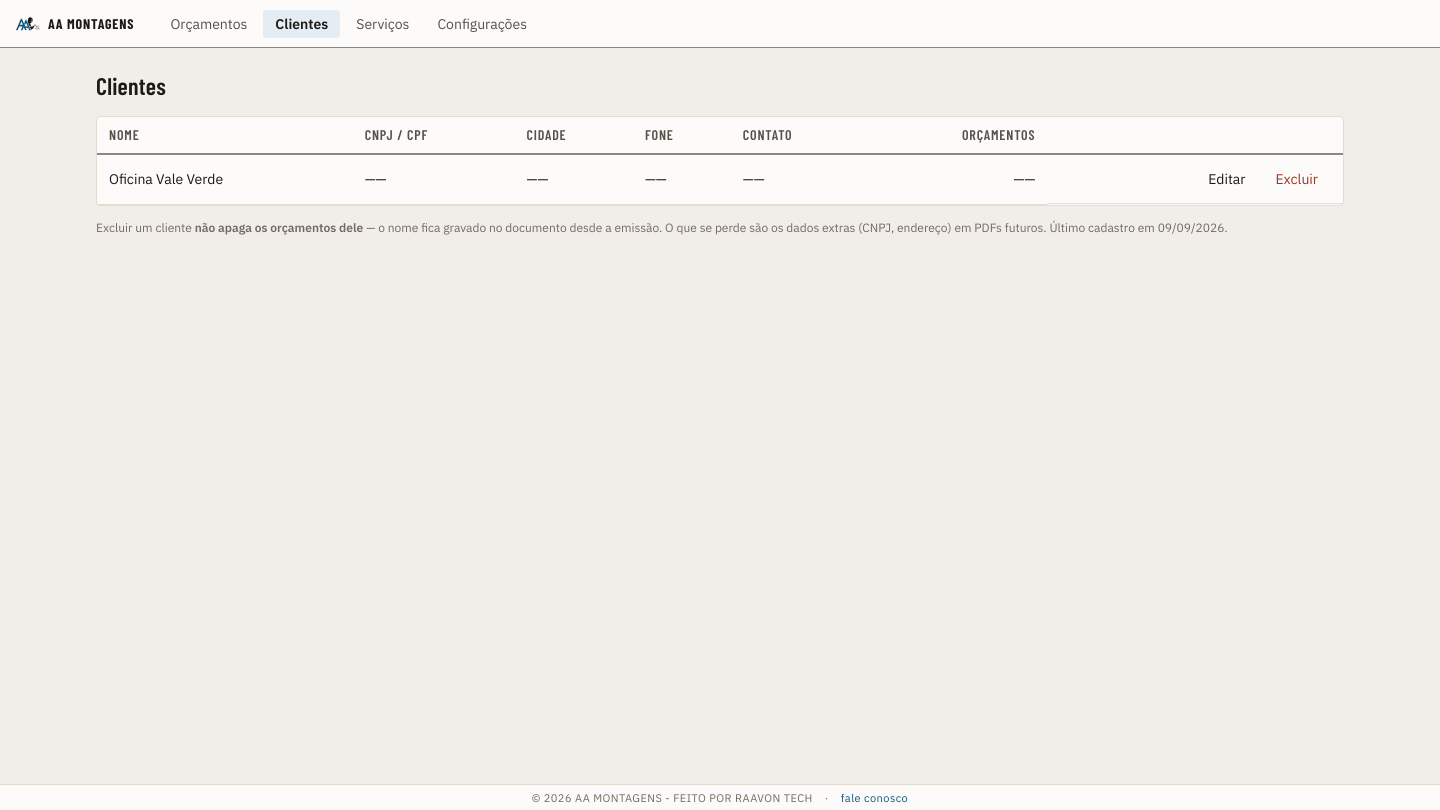
Test: clientes: editar cadastro › abre o formulário e grava a alteração
Expected: the text "Oficina Vale Verde" is shown, [97, 155, 353, 204]
Click the button with aria-label "Editar o cliente". click: (1227, 179)
box: [1195, 163, 1258, 195]
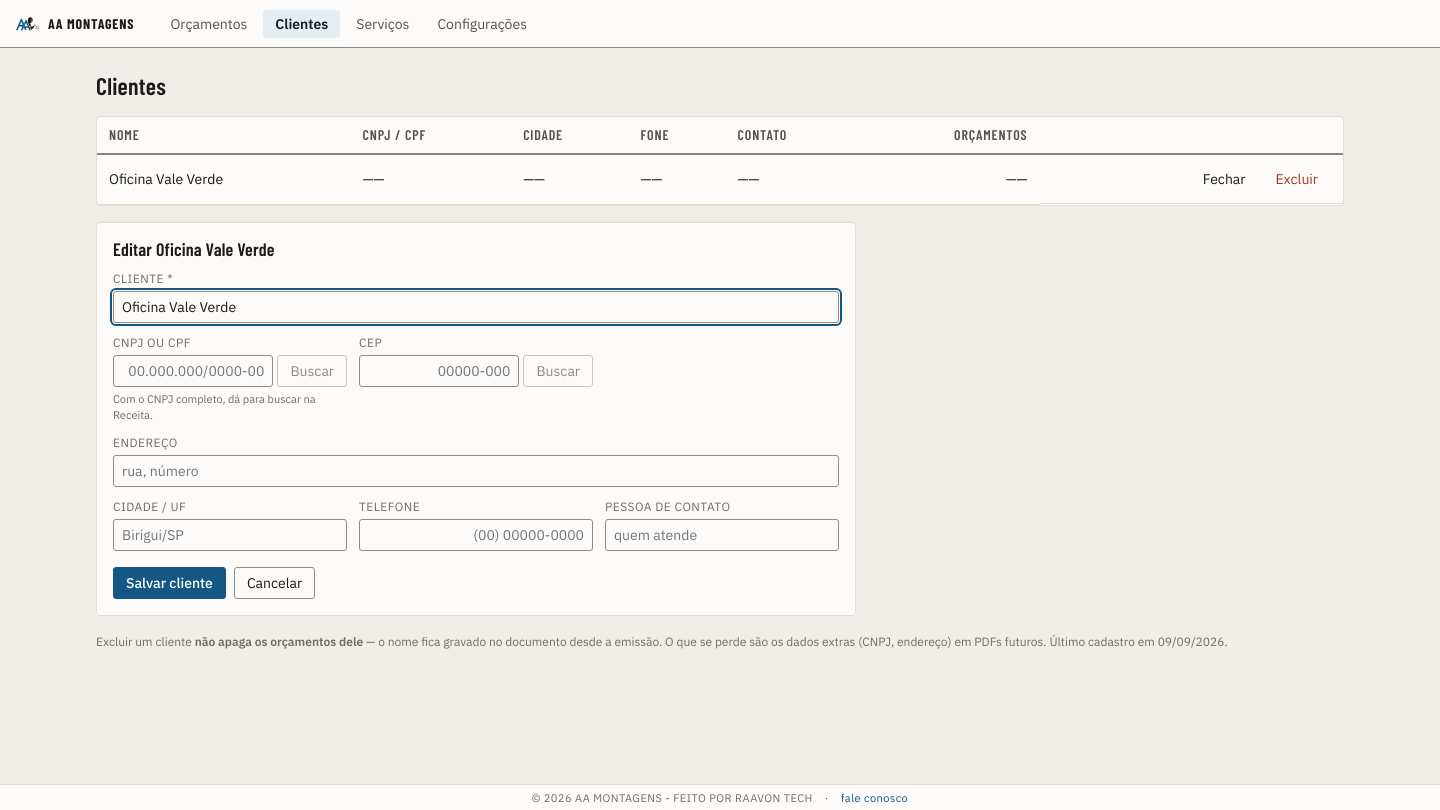
Type "Dona Regina" into the field labelled "Pessoa de contato". click: (722, 534)
box: [605, 518, 839, 550]
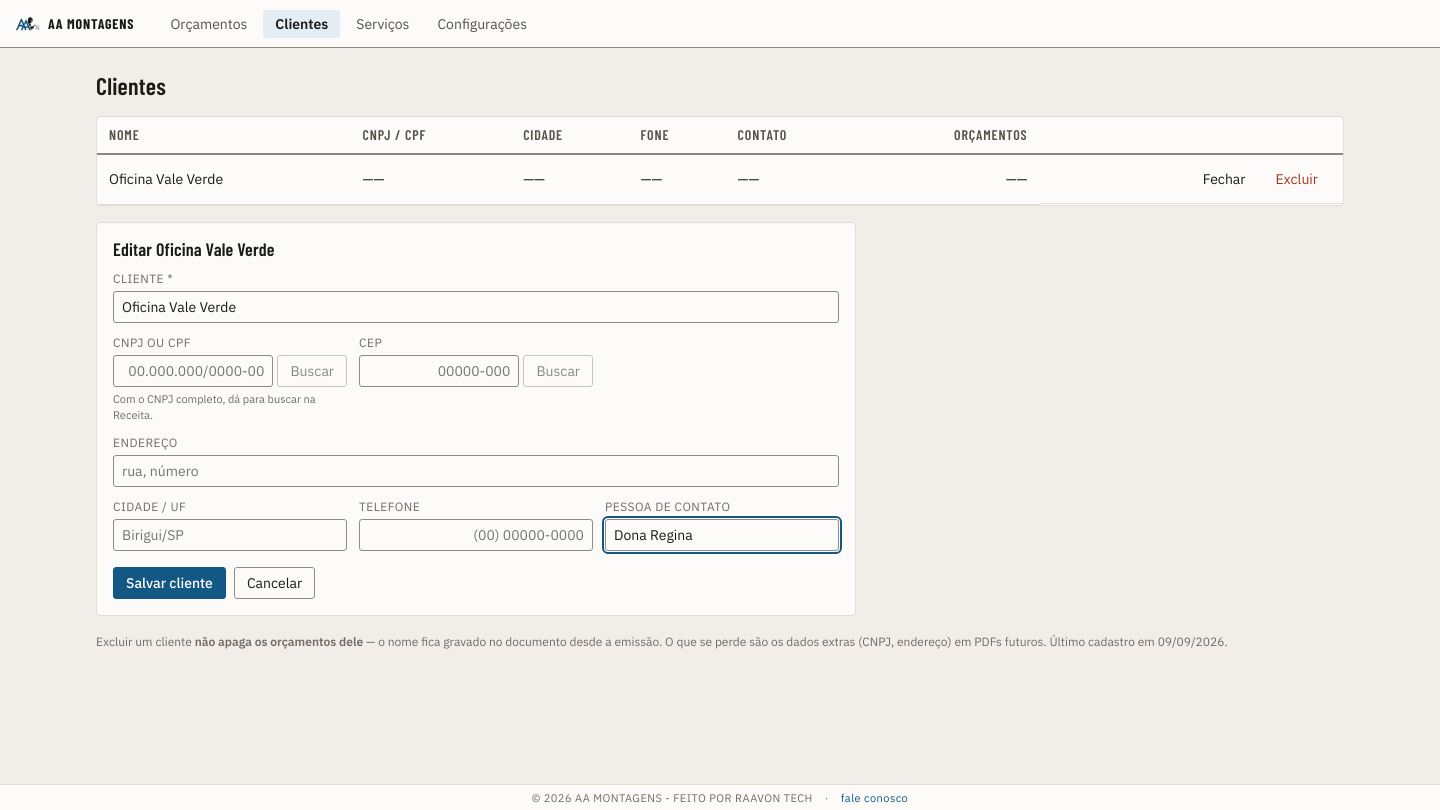
Click the button "Salvar cliente". click: (169, 582)
box: [113, 566, 226, 598]
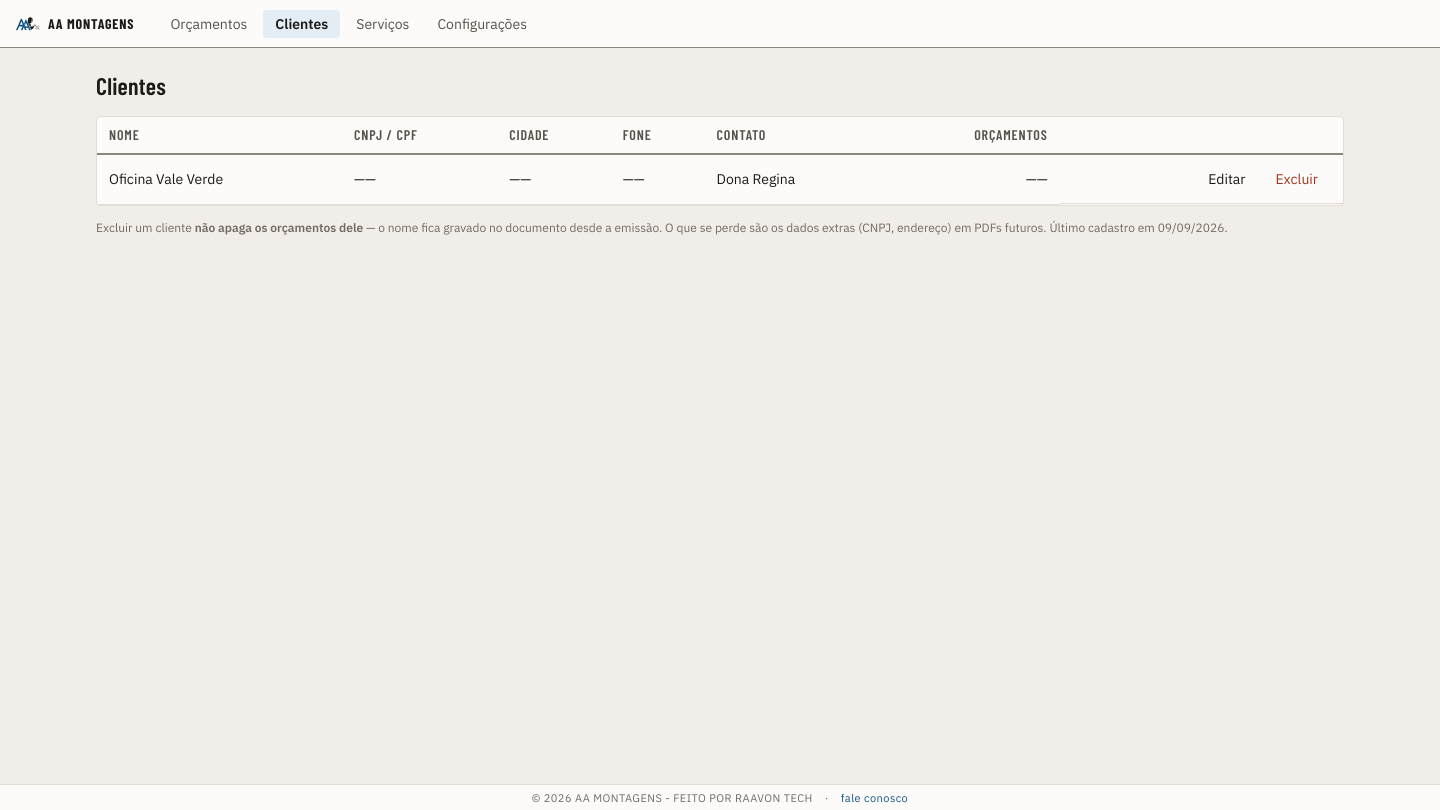
Now the cell "Dona Regina" is shown, box [705, 155, 887, 204]
